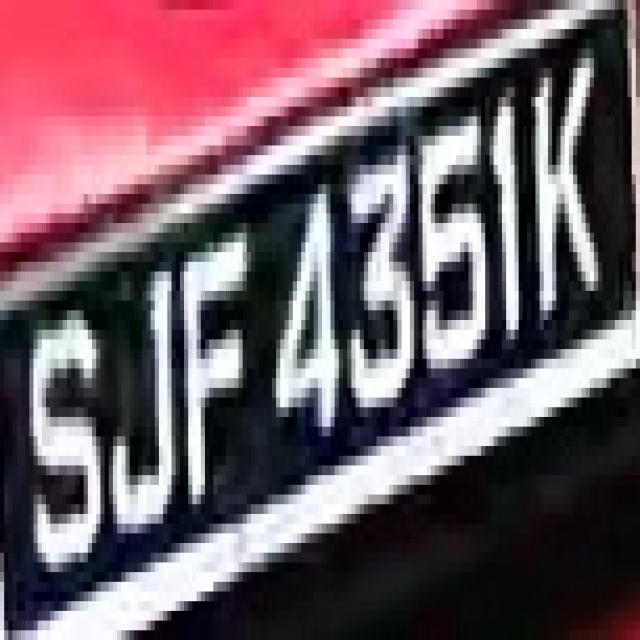1: (481, 88, 523, 368)
3: (331, 146, 414, 446)
4: (247, 175, 343, 475)
5: (410, 88, 485, 408)
F: (180, 223, 255, 524)
J: (104, 233, 180, 533)
K: (514, 49, 590, 349)
S: (17, 281, 108, 611)
